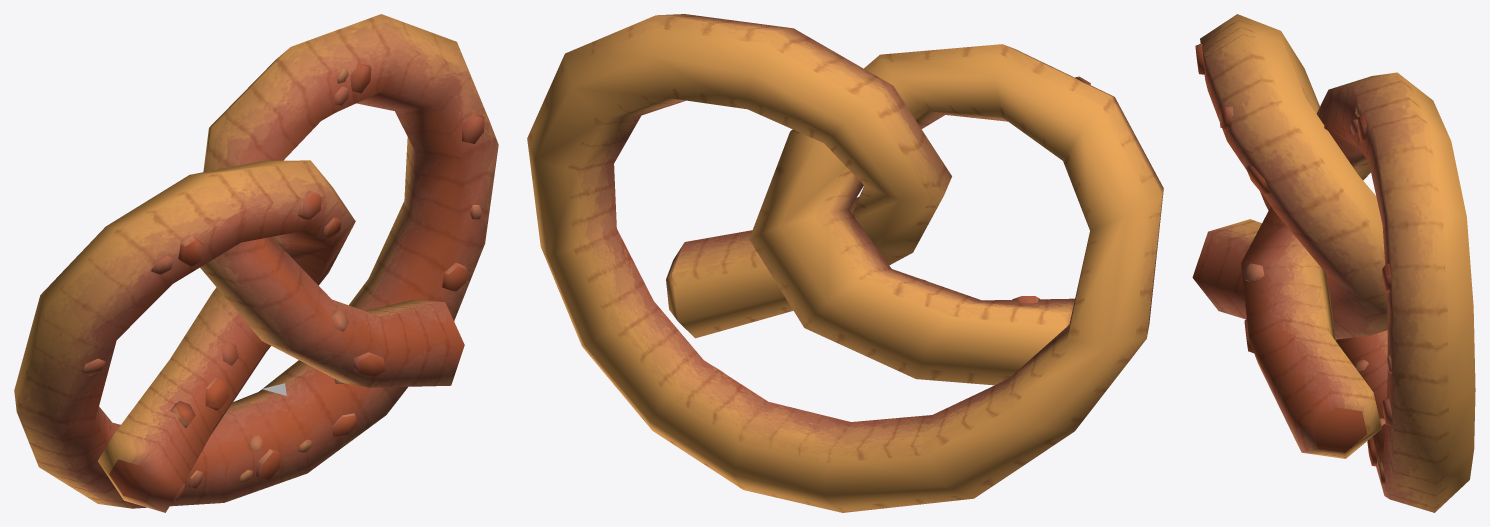
File: Balloon_Pretzel_Art.fbx
The picture shows the model from 3 angles, left to right: view 1: azimuth 30°, elevation 25°; view 2: azimuth 150°, elevation 25°; view 3: azimuth 270°, elevation 25°; orthographic projection. The views are drawn at different scales.
Parts seen in each view (by area): view 1: Oktoberfest_PretzelBallon; view 2: Oktoberfest_PretzelBallon; view 3: Oktoberfest_PretzelBallon.
Boxes of the visible parts, x1,y1,x2,y2 form: Oktoberfest_PretzelBallon: (14, 14, 498, 512); Oktoberfest_PretzelBallon: (527, 14, 1163, 512); Oktoberfest_PretzelBallon: (1192, 14, 1475, 512).
Bounding box in the file's own units: 756 × 593 × 349.
